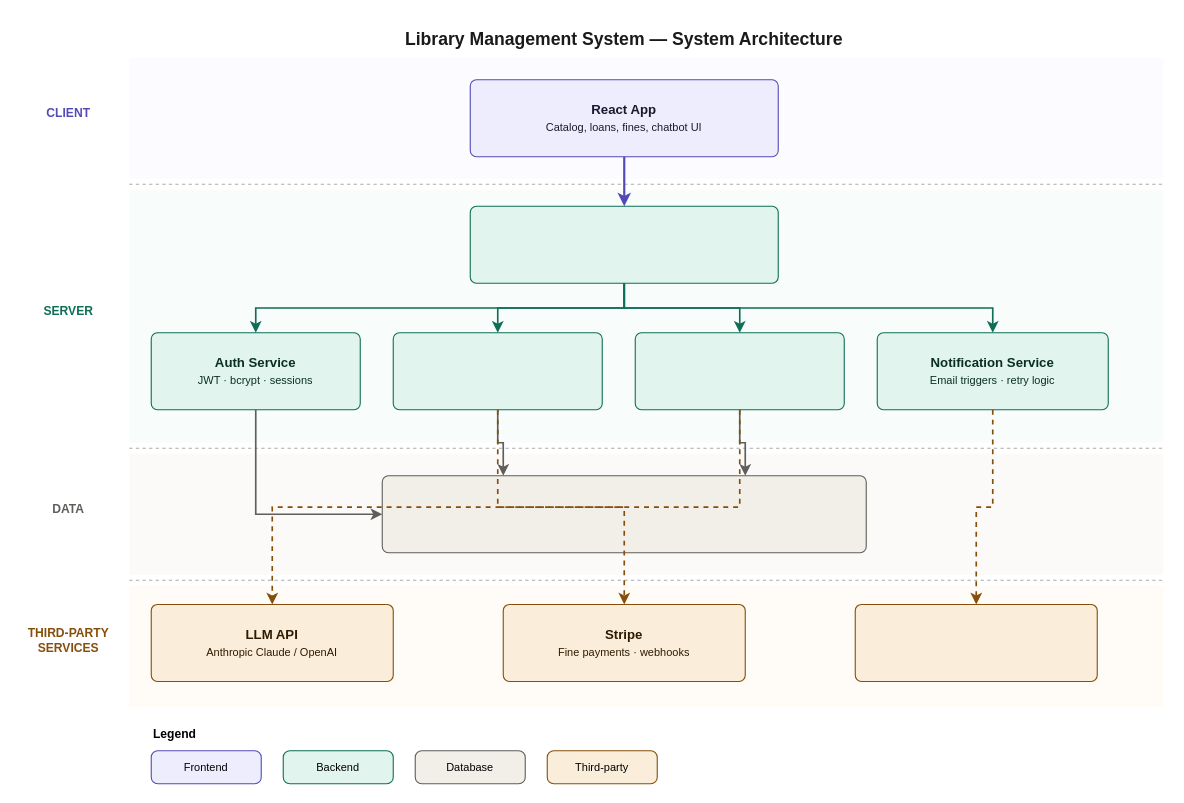
The diagram is 1184 pixels wide and 803 high, and some of its shapes have lost their labels. Each missing label, with the box of its shape:
AI Service Search · summaries · chatbot: (634, 332, 844, 410)
Core Service Books · loans · fines: (392, 332, 602, 410)
Express API Gateway REST endpoints · JWT auth · routing: (469, 205, 778, 283)
PostgreSQL Database Books · members · loans · fines · payments · audit logs: (381, 475, 866, 553)
SendGrid Transactional email delivery: (854, 603, 1097, 681)
